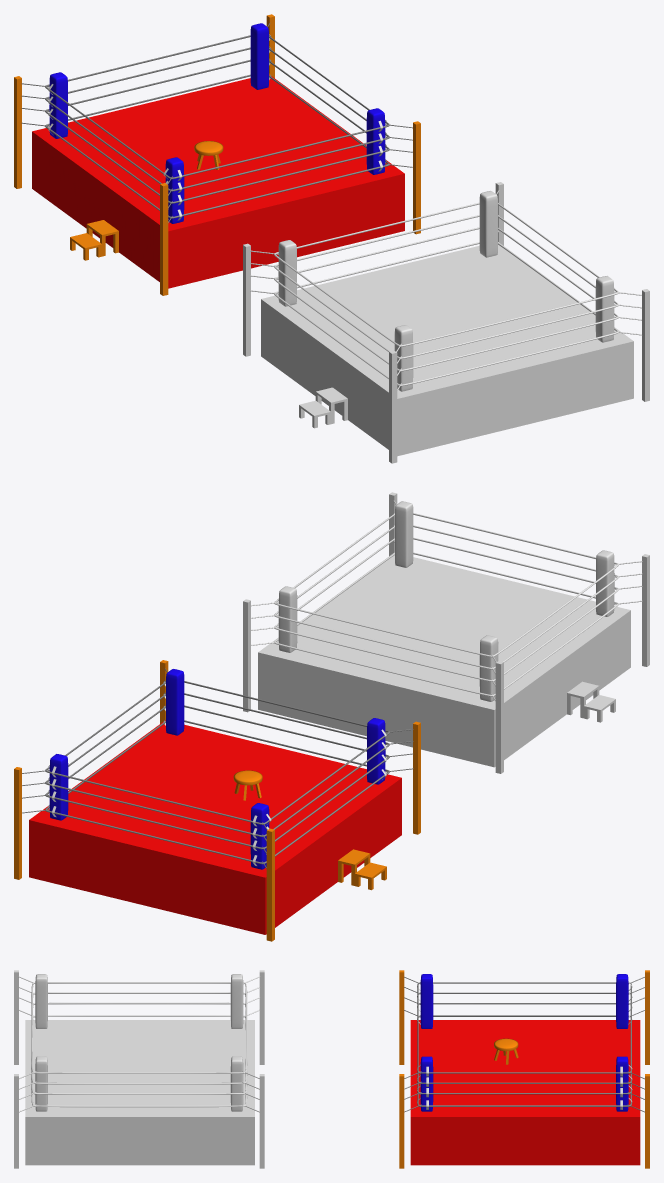
The model's file is boxing ring.glb.
3 renders of one model, top to bottom at view 1: azimuth 30°, elevation 25°; view 2: azimuth 150°, elevation 25°; view 3: azimuth 270°, elevation 25°, orthographic. The views are drawn at different scales.
Visible parts, largest first — view 1: Cube.065, Cube.047, Cube.034, Cube.021, Cube.003, Cube.002, Cube.004, Cube.001; view 2: Cube.065, Cube.047, Cube.034, Cube.021, Cube.002, Cube.003, Cube.001, Cube.004; view 3: Cube.065, Cube.047, Cube.034, Cube.021, Cube.001, Cube.004, Cube.002, Cube.003, boxing ring.005, Cube.005.
Part boxes in pixels (<box>): Cube.065: <box>243,182,649,463</box>; Cube.047: <box>32,74,404,288</box>; Cube.034: <box>21,23,412,222</box>; Cube.021: <box>14,14,420,295</box>; Cube.003: <box>250,23,268,89</box>; Cube.002: <box>366,108,385,174</box>; Cube.004: <box>49,72,67,138</box>; Cube.001: <box>165,157,184,223</box>; Cube.065: <box>243,492,649,773</box>; Cube.047: <box>29,720,401,934</box>; Cube.034: <box>22,668,413,868</box>; Cube.021: <box>14,660,420,941</box>; Cube.002: <box>166,669,184,735</box>; Cube.003: <box>49,754,68,820</box>; Cube.001: <box>367,718,385,784</box>; Cube.004: <box>250,803,269,869</box>; Cube.065: <box>14,970,264,1168</box>; Cube.047: <box>410,1020,640,1165</box>; Cube.034: <box>404,977,645,1112</box>; Cube.021: <box>399,970,649,1168</box>; Cube.001: <box>420,974,433,1028</box>; Cube.004: <box>616,974,628,1028</box>; Cube.002: <box>420,1056,433,1111</box>; Cube.003: <box>616,1056,628,1111</box>; boxing ring.005: <box>417,982,632,1109</box>; Cube.005: <box>494,1038,518,1064</box>.
Size of the model in its own units: 156 by 62.71 by 366.
